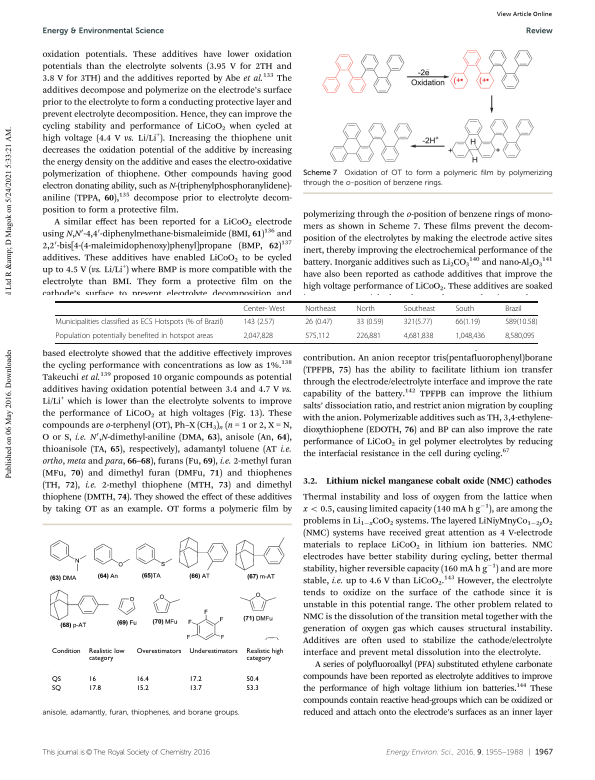borderless: (55, 300, 538, 343), (46, 645, 286, 703)
cell: (55, 317, 224, 327), (55, 331, 214, 341), (245, 647, 284, 663), (87, 647, 125, 663), (188, 647, 238, 656), (135, 647, 182, 656), (242, 304, 286, 313), (504, 317, 538, 327), (242, 317, 275, 327), (242, 331, 274, 341), (454, 331, 486, 341), (504, 331, 536, 341), (403, 331, 434, 341), (403, 317, 433, 327), (304, 304, 337, 313), (403, 304, 436, 313), (304, 317, 333, 327), (355, 317, 384, 327), (454, 317, 481, 327), (355, 331, 382, 341), (51, 647, 81, 656), (304, 331, 330, 341), (355, 304, 376, 313), (454, 304, 475, 313), (504, 304, 523, 313), (135, 675, 149, 684), (188, 675, 202, 684), (245, 675, 259, 684), (87, 684, 101, 693), (135, 684, 149, 693), (188, 684, 202, 693), (245, 684, 259, 693), (51, 675, 61, 684), (51, 684, 61, 693), (87, 675, 96, 684)
